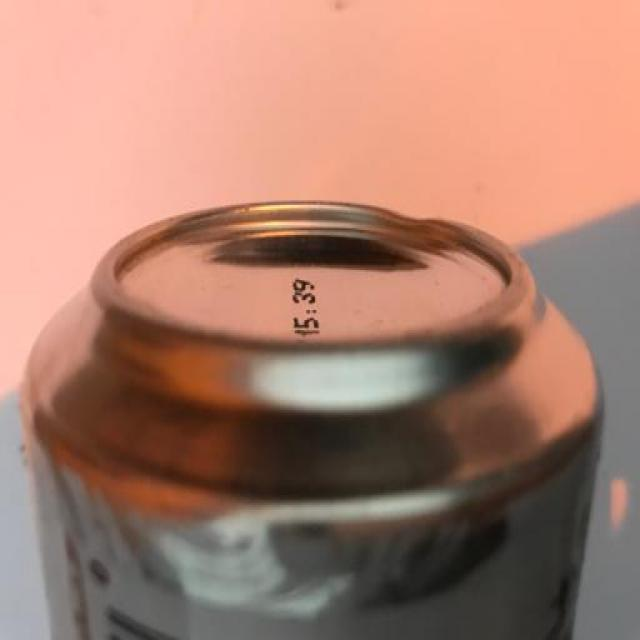metel: (10, 202, 601, 640)
